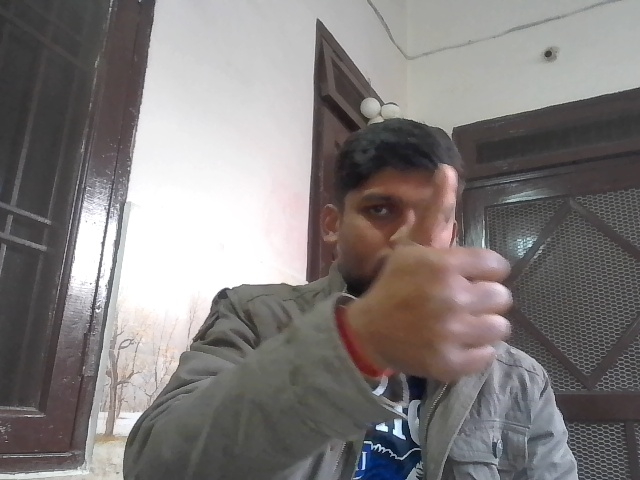BestOfLuck: (376, 165, 521, 374)
